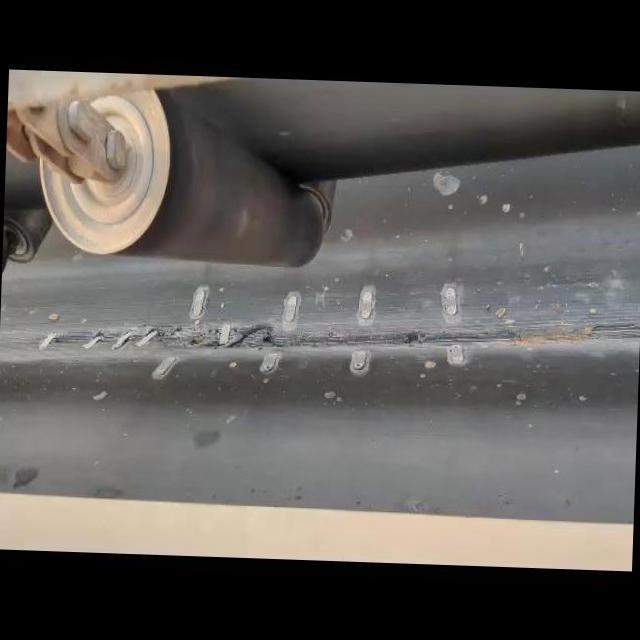Tear: (181, 322, 289, 354)
Wear: (31, 317, 640, 359)
